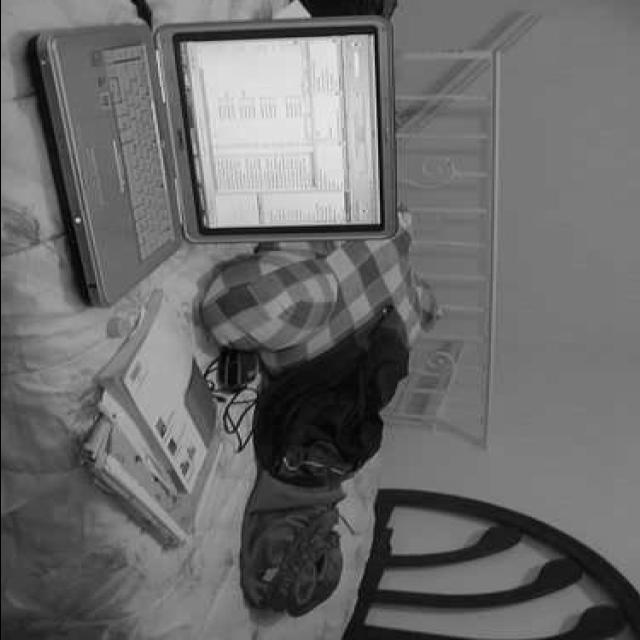laptop: (32, 13, 396, 315)
